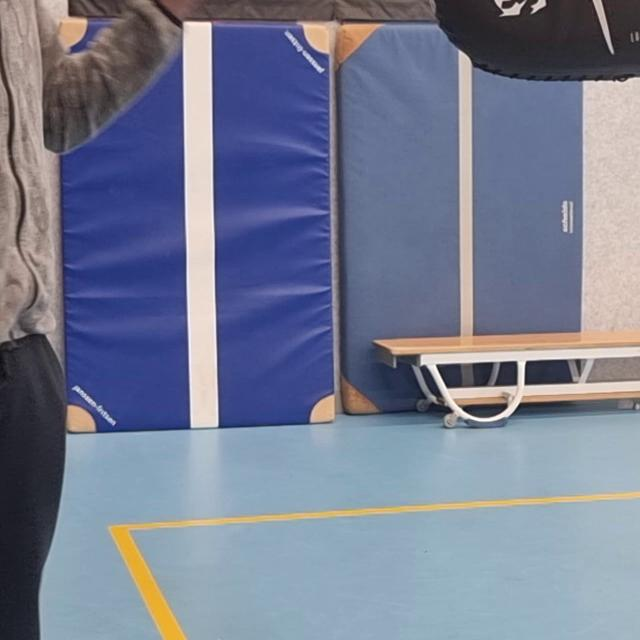paddle: (427, 0, 640, 81)
